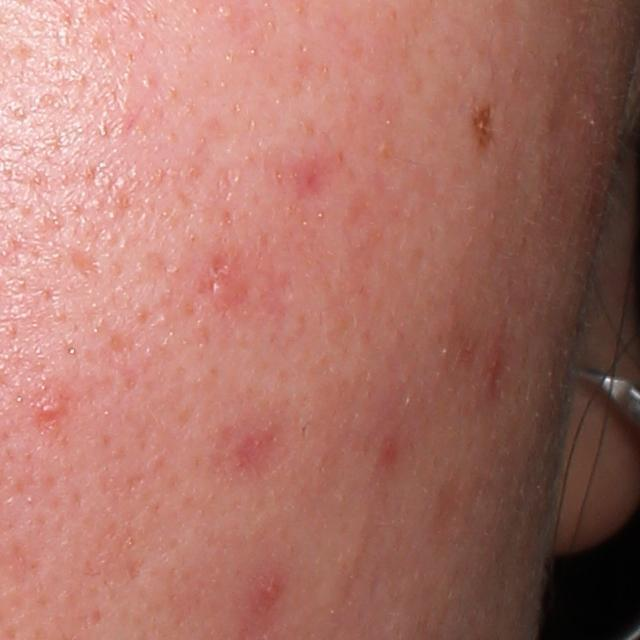atrophic_scar: (62, 245, 106, 282)
nevus: (469, 96, 497, 155)
papule: (209, 266, 253, 316), (245, 564, 291, 611), (30, 378, 74, 425)
